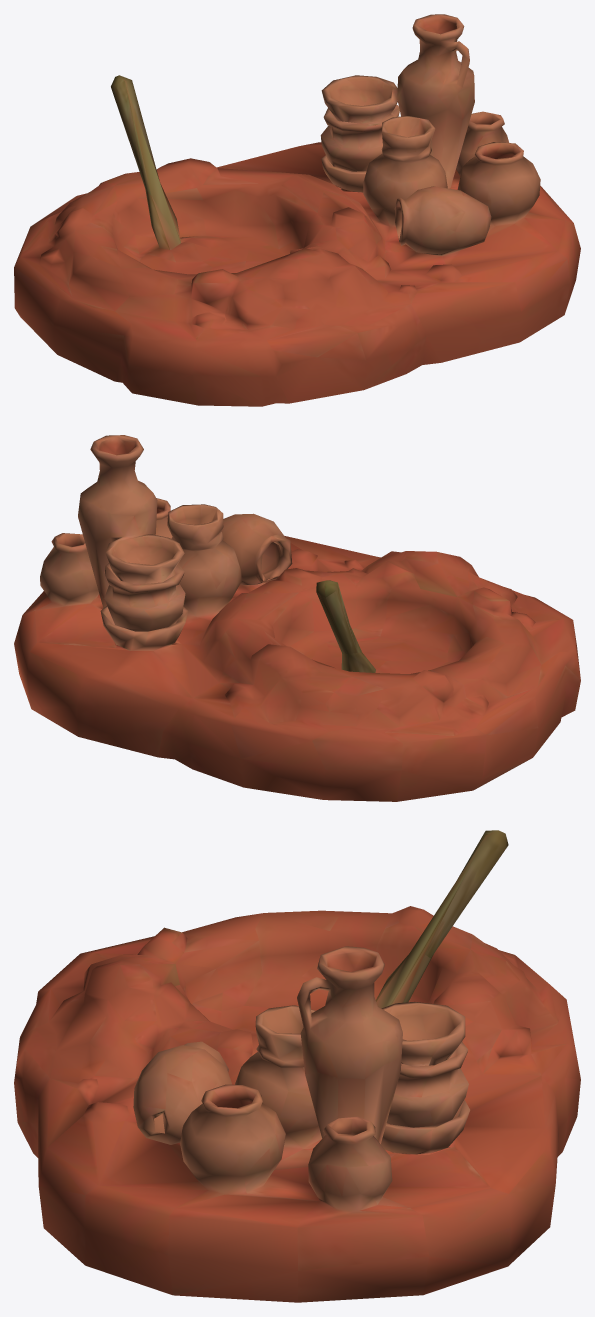
File: arcilla.glb
3 views of the same model, one above another, from view 1: azimuth 30°, elevation 25°; view 2: azimuth 150°, elevation 25°; view 3: azimuth 270°, elevation 25° (orthographic). The views are drawn at different scales.
Parts seen in each view (by area): view 1: Mesh_0; view 2: Mesh_0; view 3: Mesh_0.
Boxes of the visible parts, bbox=[...] form: Mesh_0: bbox=[14, 14, 580, 406]; Mesh_0: bbox=[14, 435, 580, 801]; Mesh_0: bbox=[14, 830, 580, 1302].
Size of the model in its own units: 1.9 by 0.8384 by 1.48.
1 material, 1 textured.
